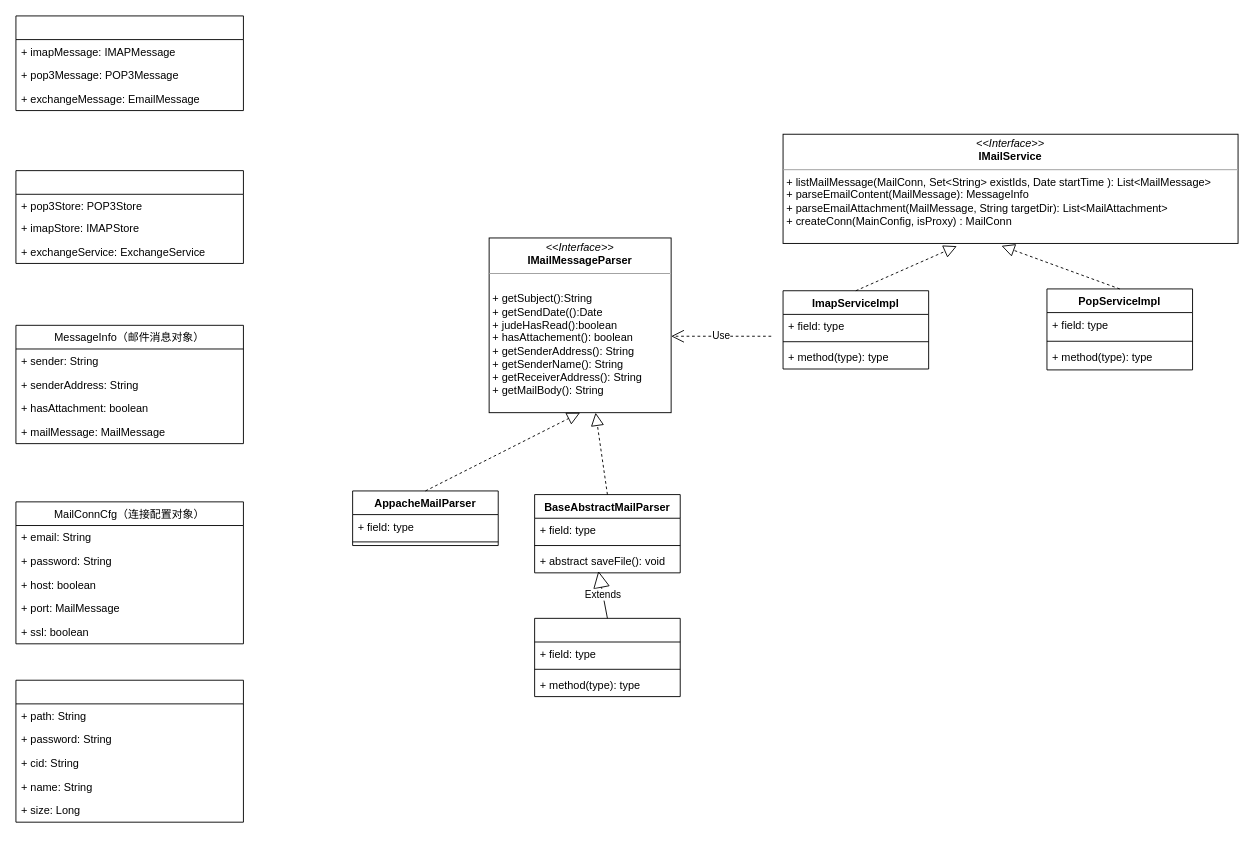
Image size: 1254x841. Some labels were removed from this diagram. The shapes that lost their labels are listed below. From the top down, each one's box as (x1, y1, x2, y2) in pixels, then its label:
(15, 15, 243, 111): MailMessage（邮件对象）
(15, 170, 243, 263): MailConn(连接对象)
(534, 617, 680, 697): CommonMailParser
(15, 679, 243, 822): MailAttachment（邮件附件对象）
